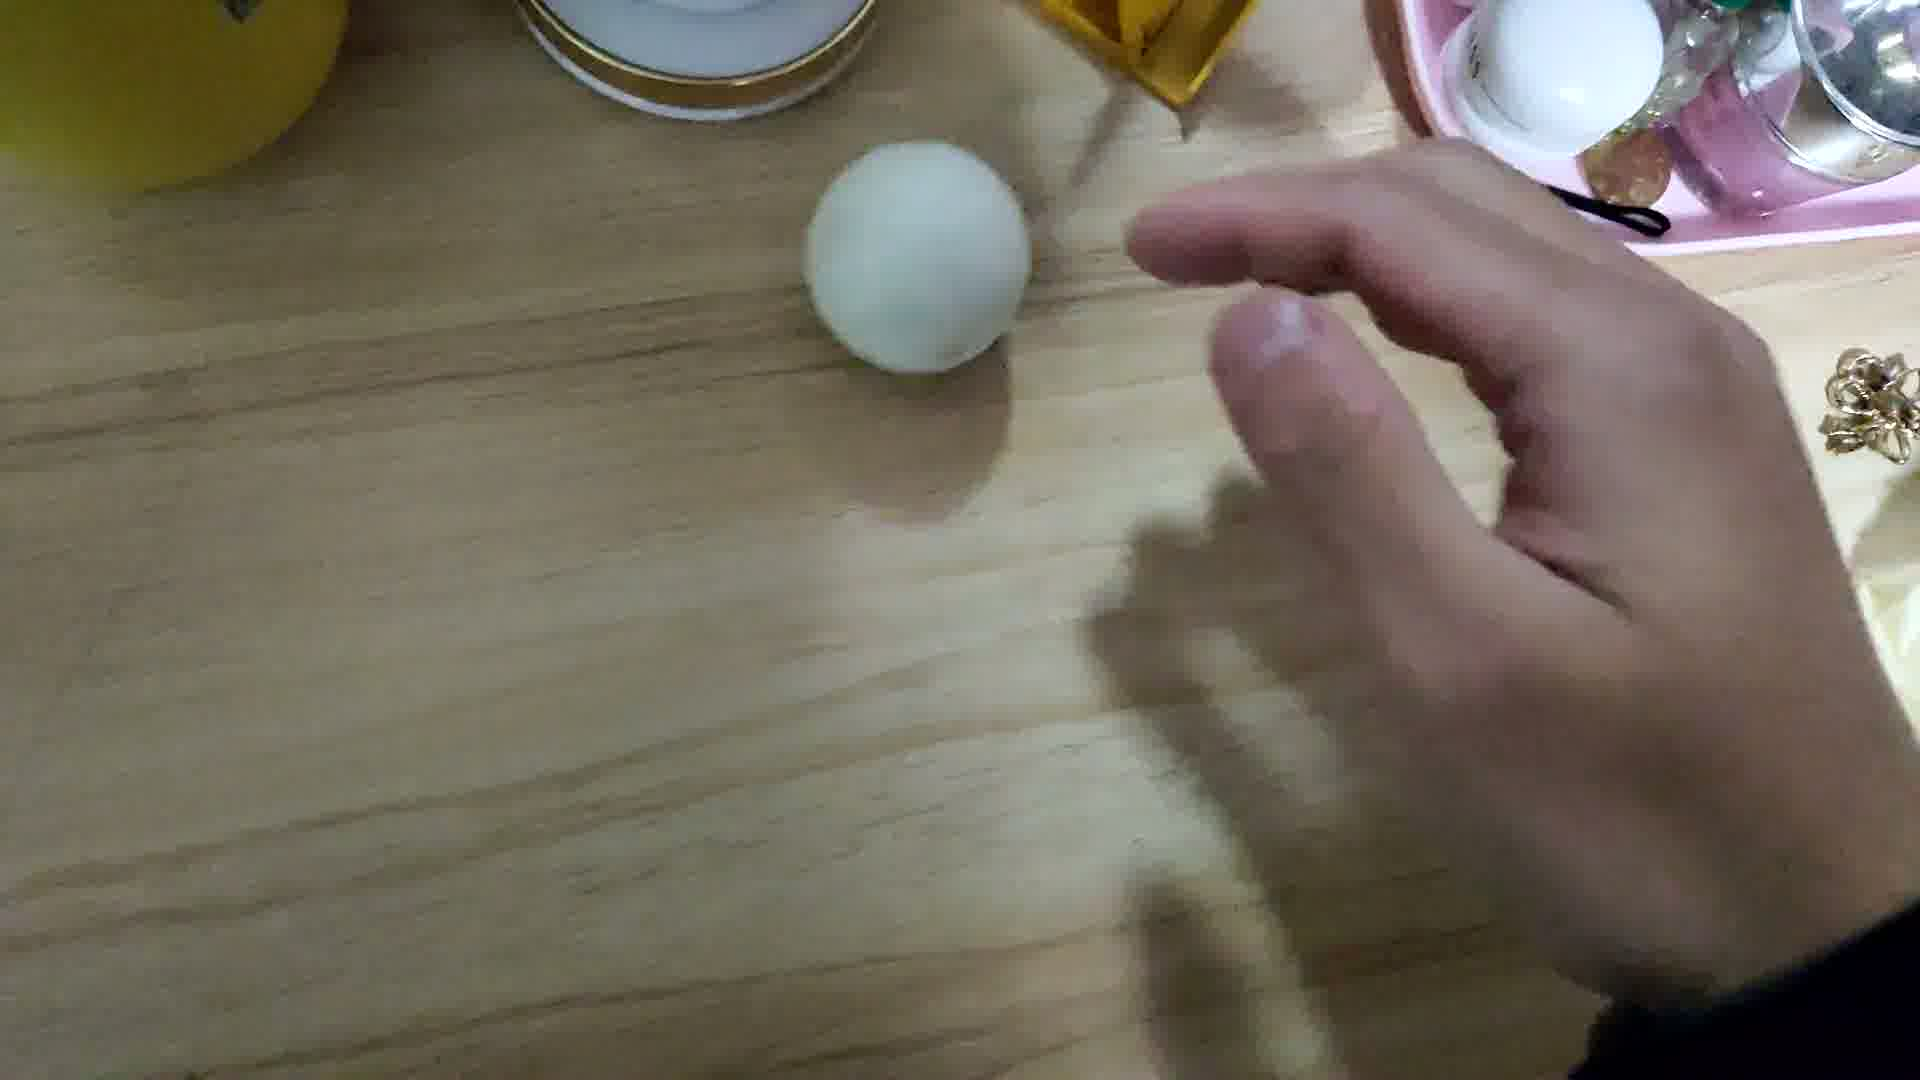Ball: (799, 132, 1033, 382)
